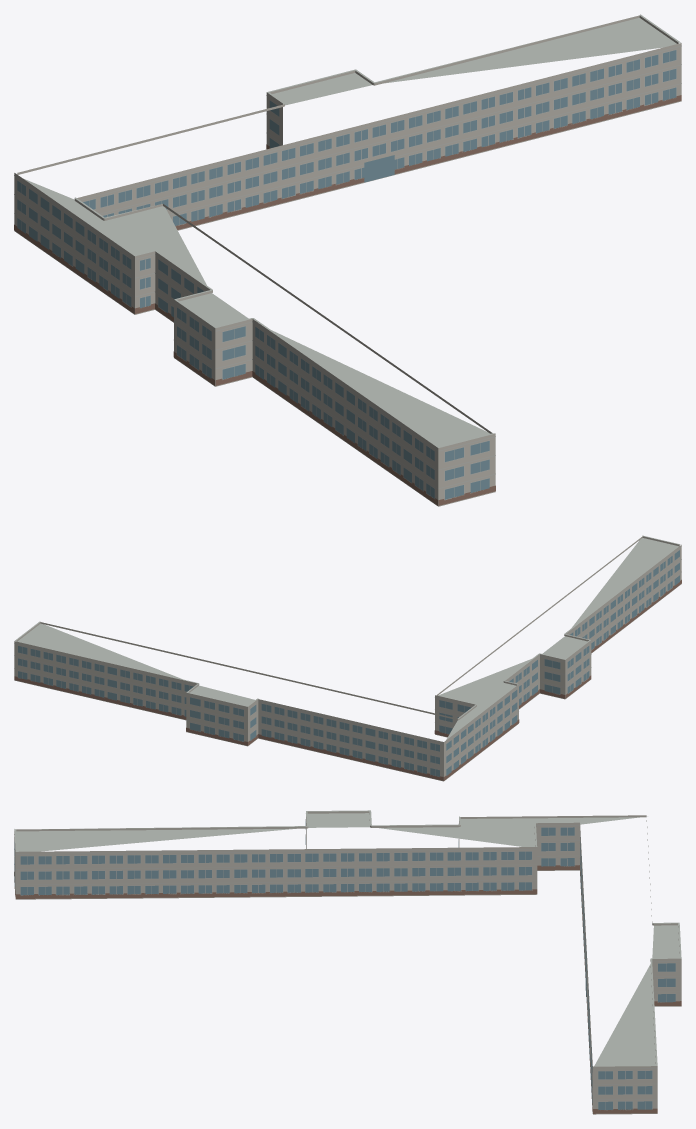
The model's file is public-4d4c8990-039b-4053-a4bd-773e3289a98a.glb.
The picture shows the model from 3 angles, top to bottom: view 1: azimuth 30°, elevation 25°; view 2: azimuth 150°, elevation 25°; view 3: azimuth 270°, elevation 25°; orthographic projection. The views are drawn at different scales.
Parts seen in each view (by area): view 1: public-4d4c8990-039b-4053-a4bd-773e3289a98a; view 2: public-4d4c8990-039b-4053-a4bd-773e3289a98a; view 3: public-4d4c8990-039b-4053-a4bd-773e3289a98a.
Part boxes in pixels (x1=…): public-4d4c8990-039b-4053-a4bd-773e3289a98a: x1=14, y1=14, x2=681, y2=506; public-4d4c8990-039b-4053-a4bd-773e3289a98a: x1=14, y1=535, x2=681, y2=781; public-4d4c8990-039b-4053-a4bd-773e3289a98a: x1=14, y1=810, x2=681, y2=1114.
Size of the model in its own units: 105 by 9.15 by 116.
